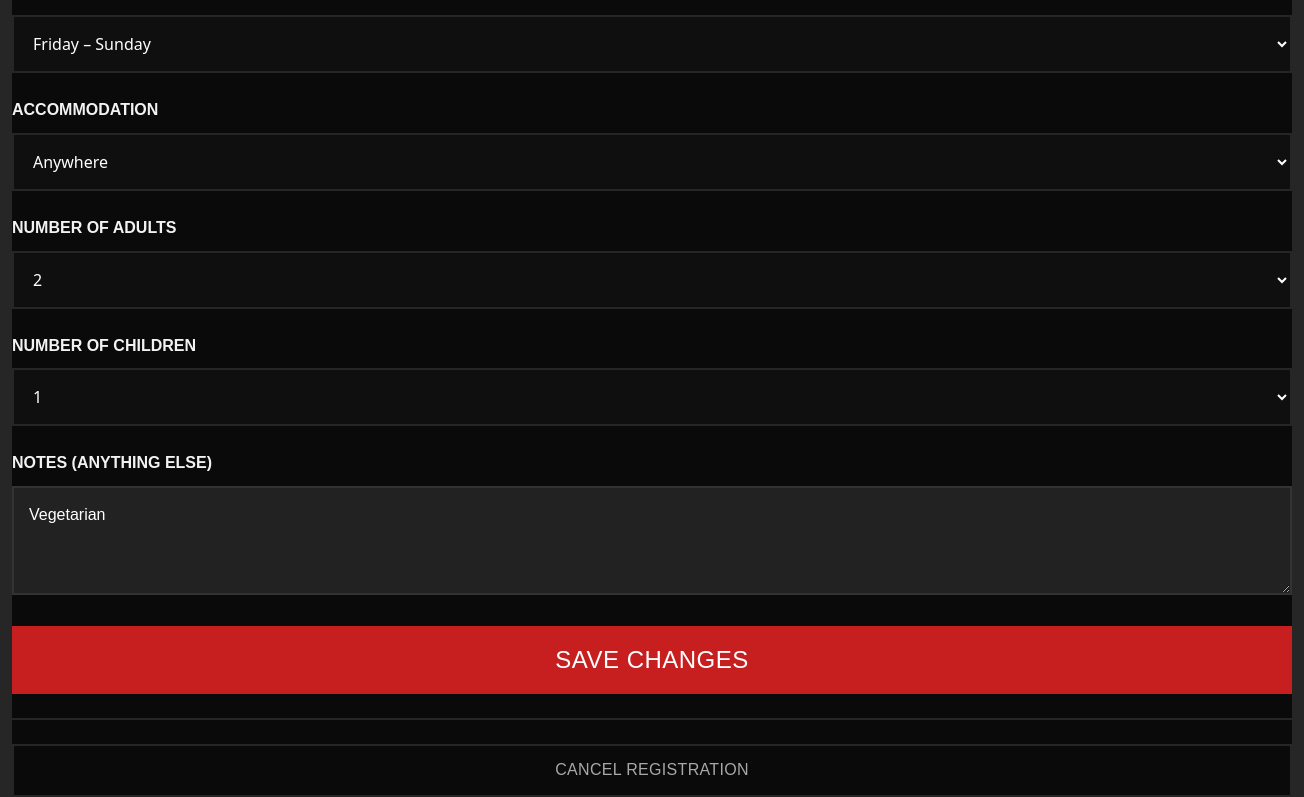
Scenario: ManageForm › edit form – save › shows loading state during save
The image size is (1304, 797).
(page scrolled)
Click the button "Save Changes": (652, 660) [12, 626, 1292, 694]
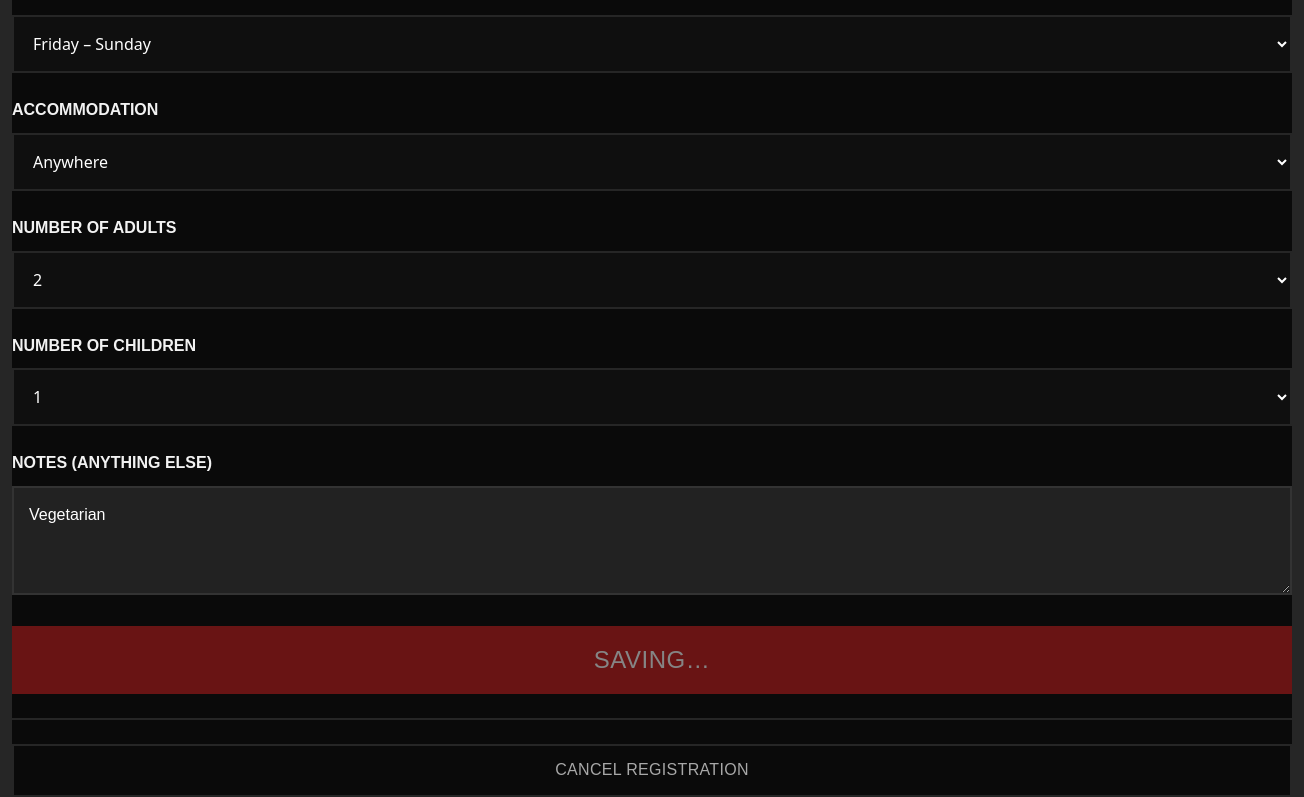
expect the button "Saving…" is disabled: met, box [12, 626, 1292, 694]
